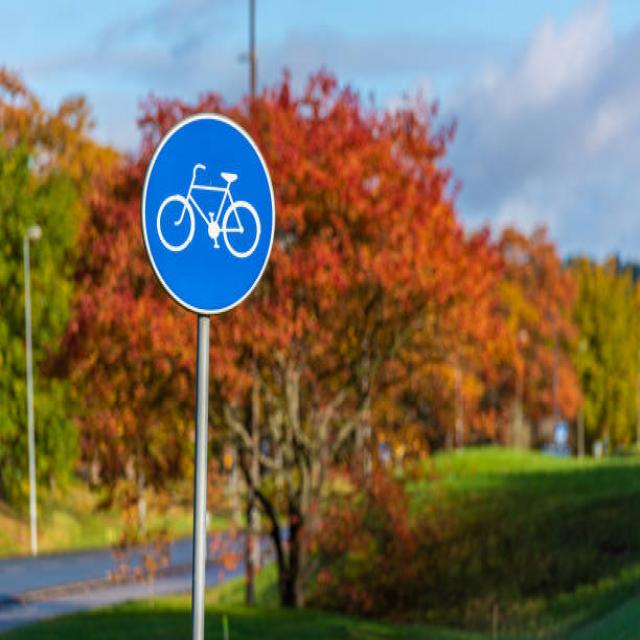bicycle: (128, 109, 292, 324)
